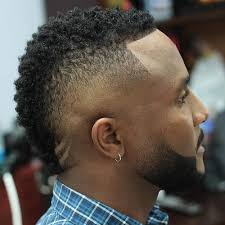black_male: (59, 8, 212, 207)
